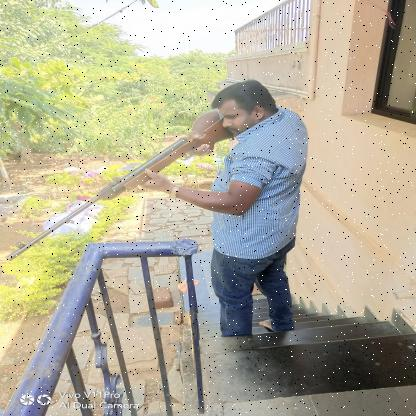rifle: (4, 116, 238, 262)
